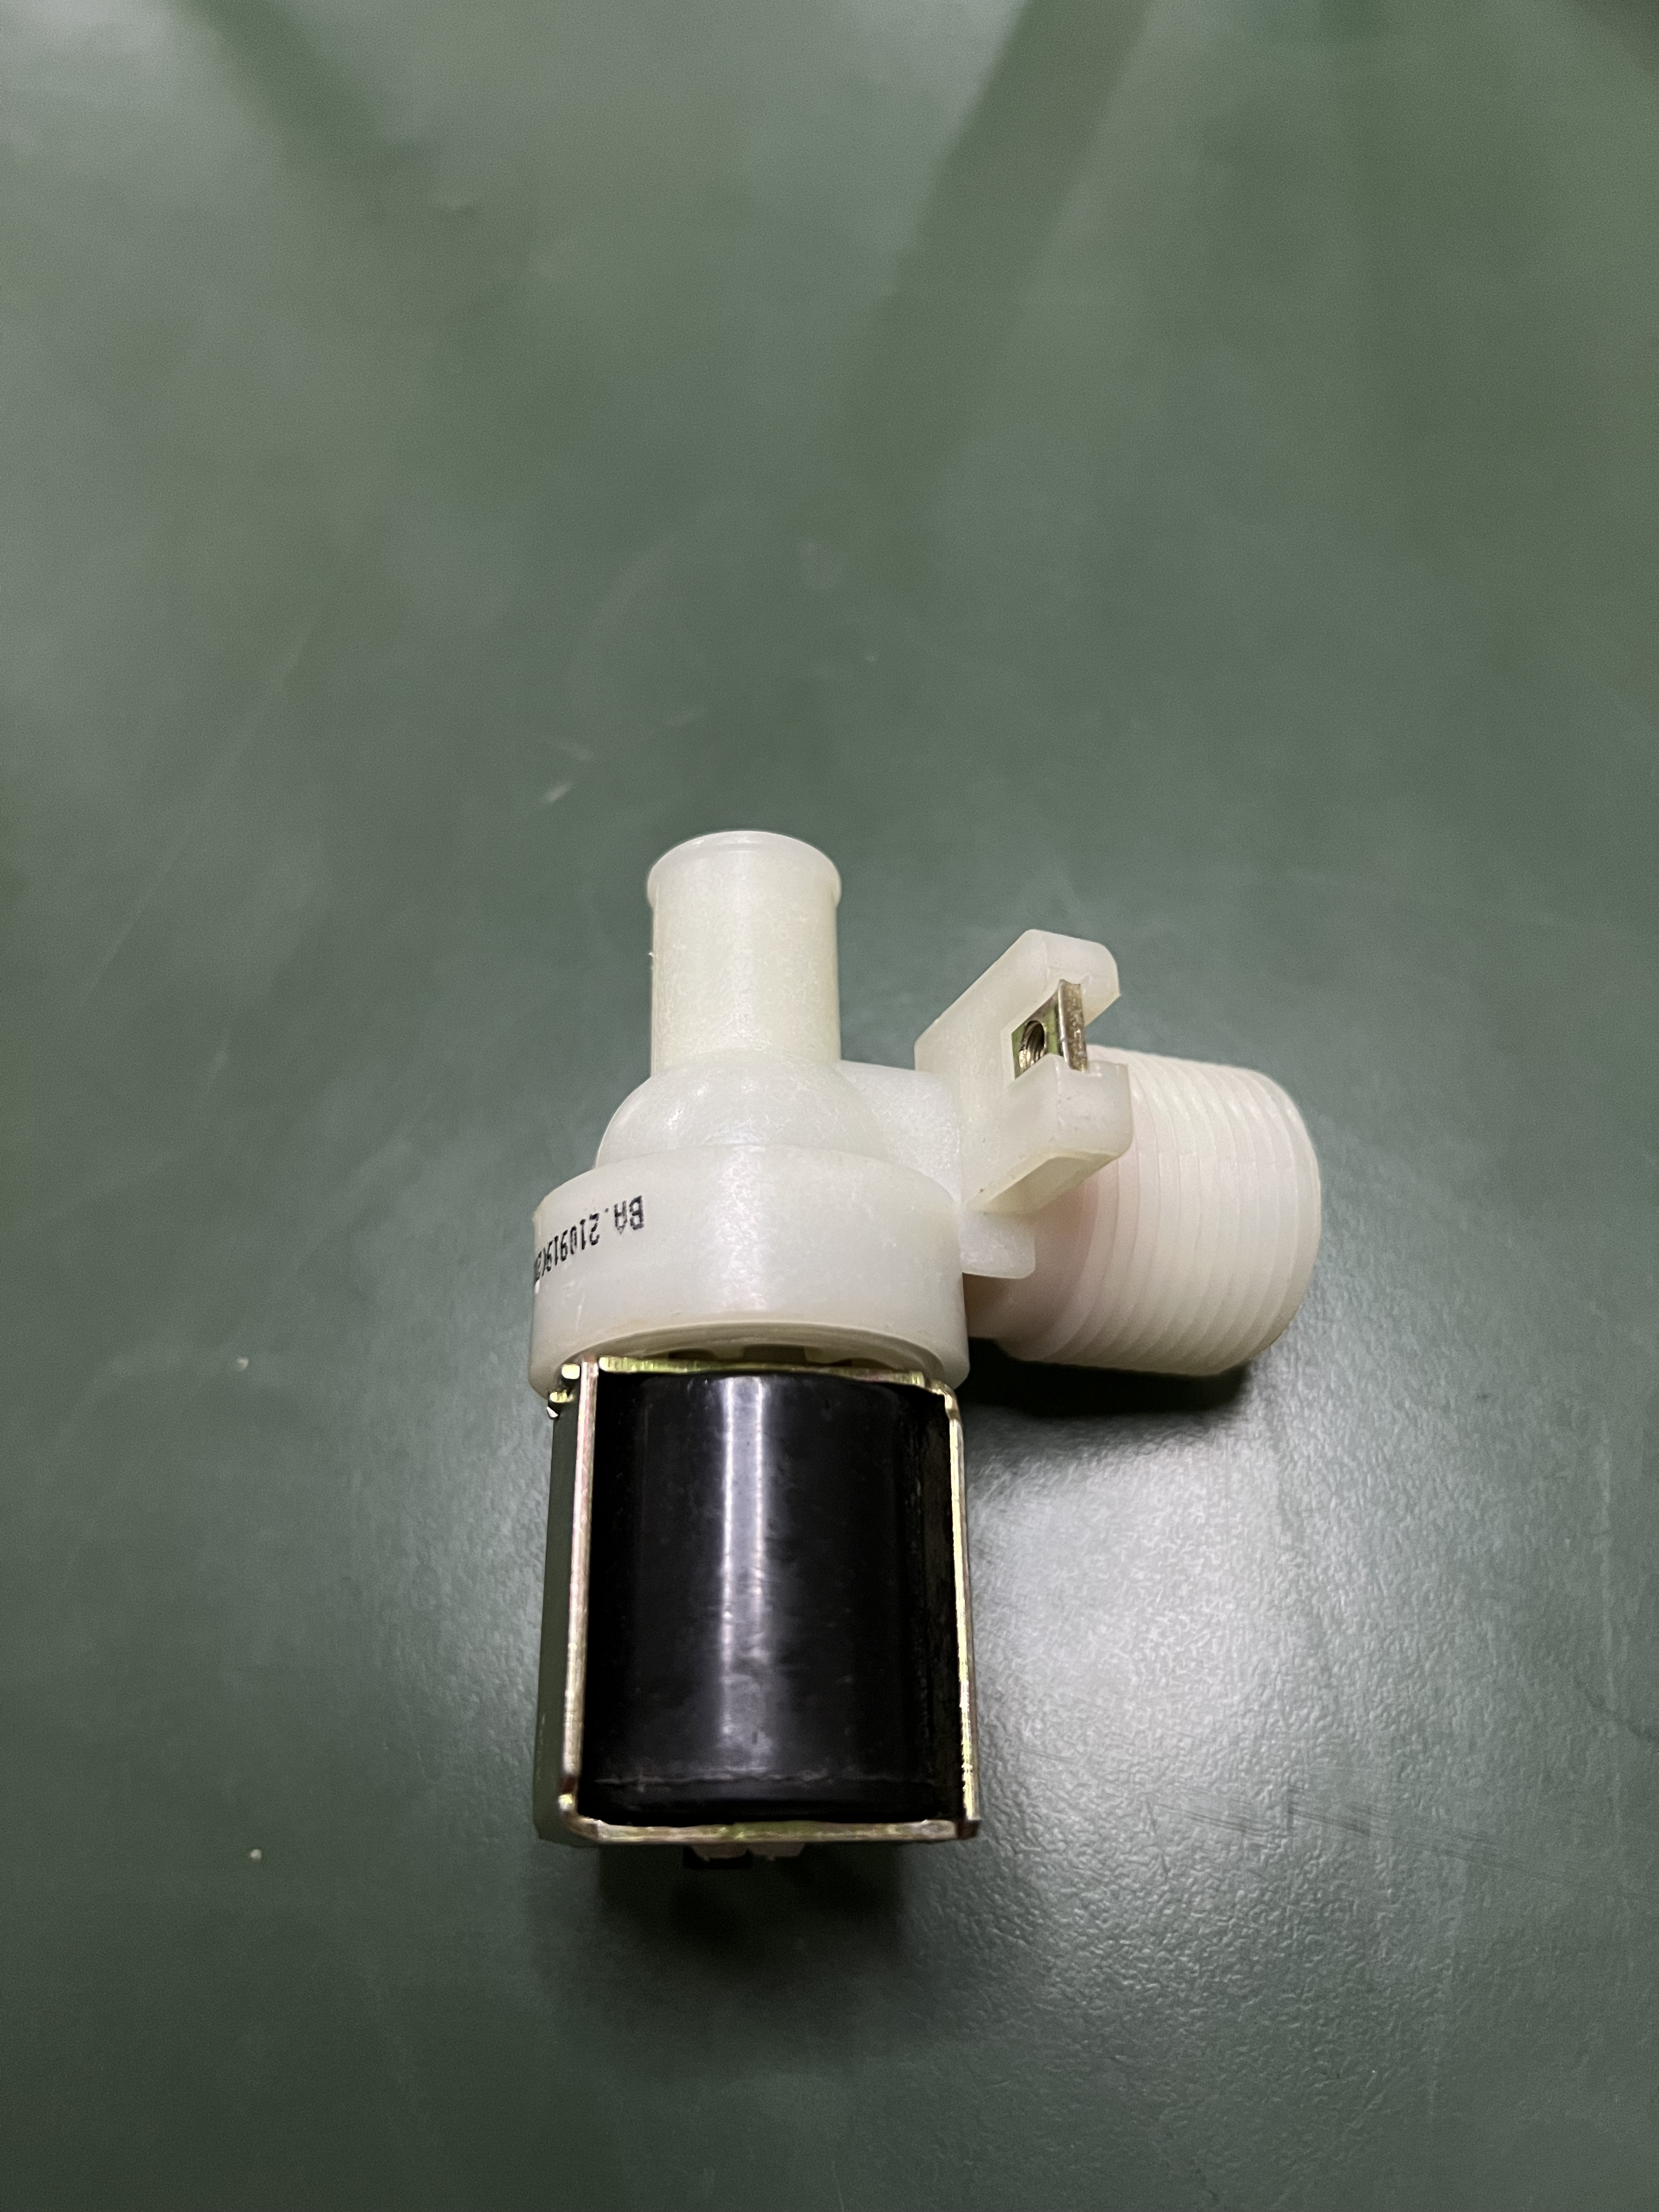godrej_inlet_valves: (486, 838, 1340, 1879)
